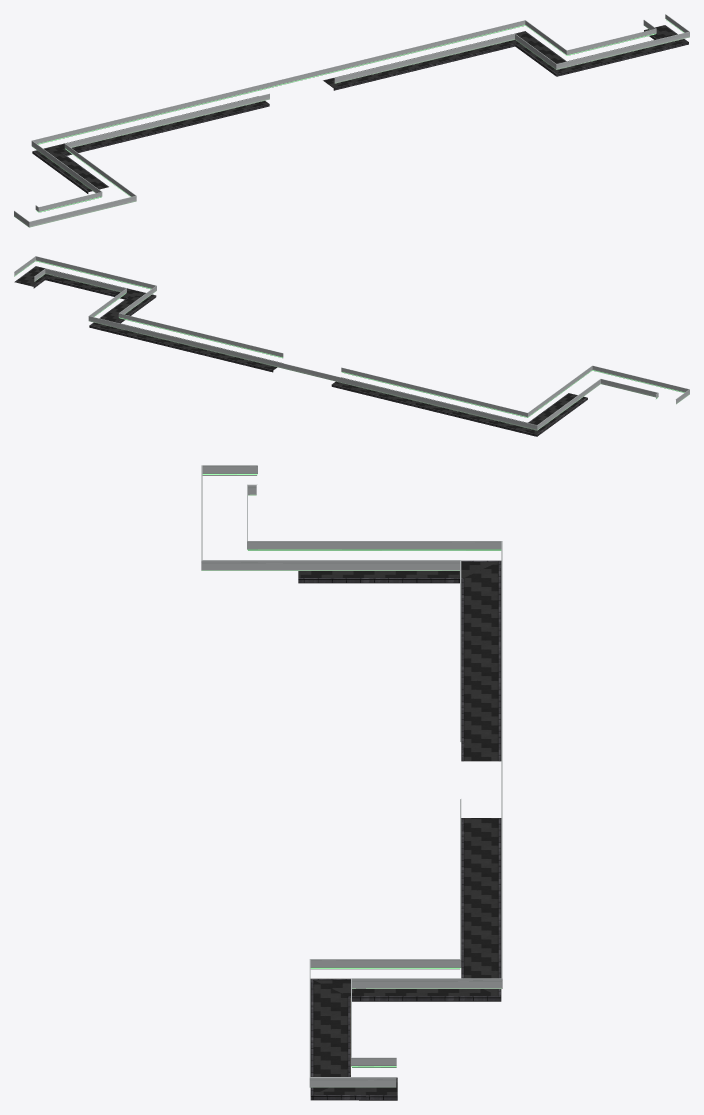
The model's file is entity14824.gltf.
The picture shows the model from 3 angles, top to bottom: view 1: azimuth 30°, elevation 25°; view 2: azimuth 150°, elevation 25°; view 3: azimuth 270°, elevation 25°; orthographic projection. The views are drawn at different scales.
Parts seen in each view (by area): view 1: node_Exhibit_Str_Bridge_Railing_3, node_Exhibit_Str_Bridge_3_Art; view 2: node_Exhibit_Str_Bridge_Railing_3, node_Exhibit_Str_Bridge_3_Art; view 3: node_Exhibit_Str_Bridge_3_Art, node_Exhibit_Str_Bridge_Railing_3.
Boxes of the visible parts, x1,y1,x2,y2 form: node_Exhibit_Str_Bridge_Railing_3: [14, 14, 689, 227]; node_Exhibit_Str_Bridge_3_Art: [32, 25, 688, 193]; node_Exhibit_Str_Bridge_Railing_3: [14, 256, 689, 430]; node_Exhibit_Str_Bridge_3_Art: [14, 266, 587, 436]; node_Exhibit_Str_Bridge_3_Art: [298, 560, 501, 1100]; node_Exhibit_Str_Bridge_Railing_3: [201, 465, 502, 1087].
Size of what is drawn, in the model's own units: 65.17 by 1.17 by 13.55.
2 materials, 2 textured.
